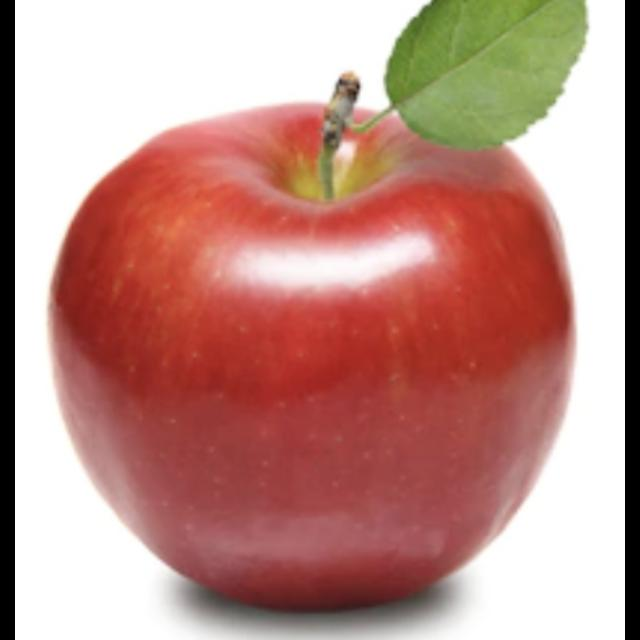Apel Segar: (46, 73, 579, 616)
